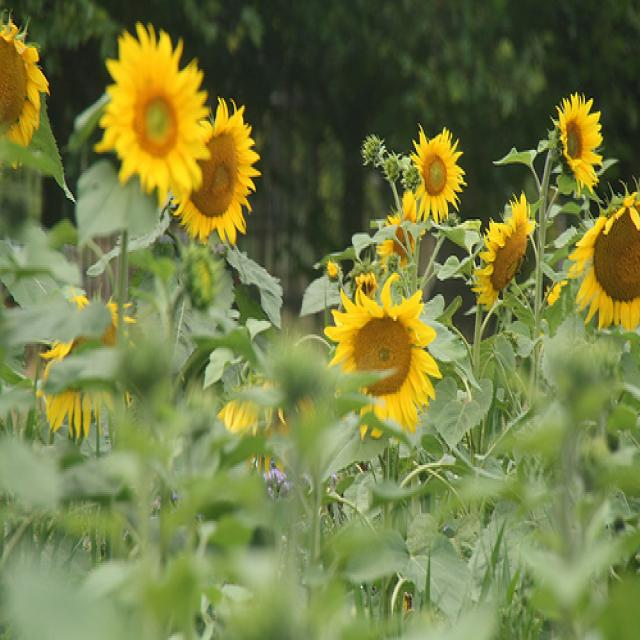sunflower: (101, 23, 211, 196), (325, 279, 433, 440), (170, 102, 263, 242), (573, 185, 640, 344), (469, 188, 538, 310), (551, 93, 616, 193), (0, 17, 44, 152), (407, 128, 467, 224)
